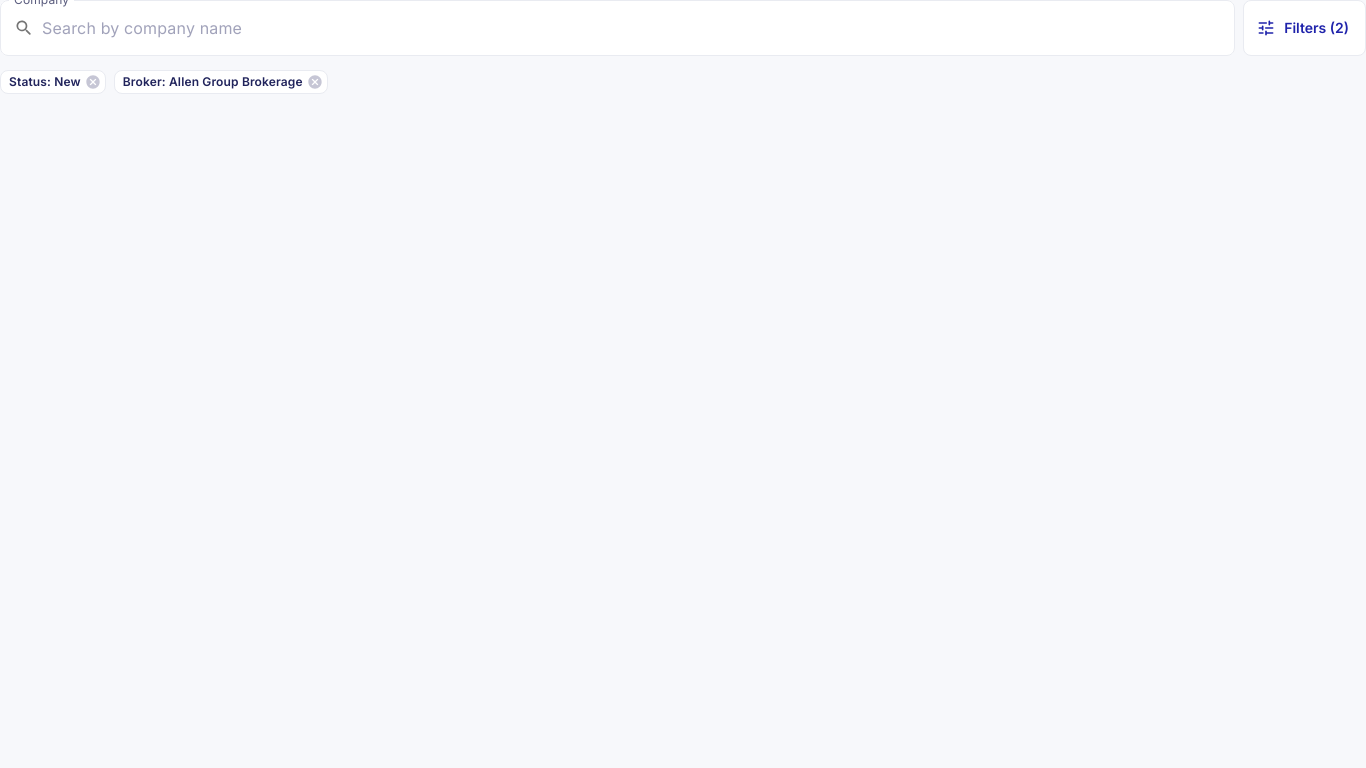
it: SubmissionFilters on phones › keeps search in view and moves the other filters into a bottom sheet
Check: the field labelled "Company" is shown, box x1=42 y1=0 x2=1235 y2=56
Step 1. Click the button "Filters (2)" → x=1305, y=28, box x1=1243 y1=0 x2=1365 y2=56
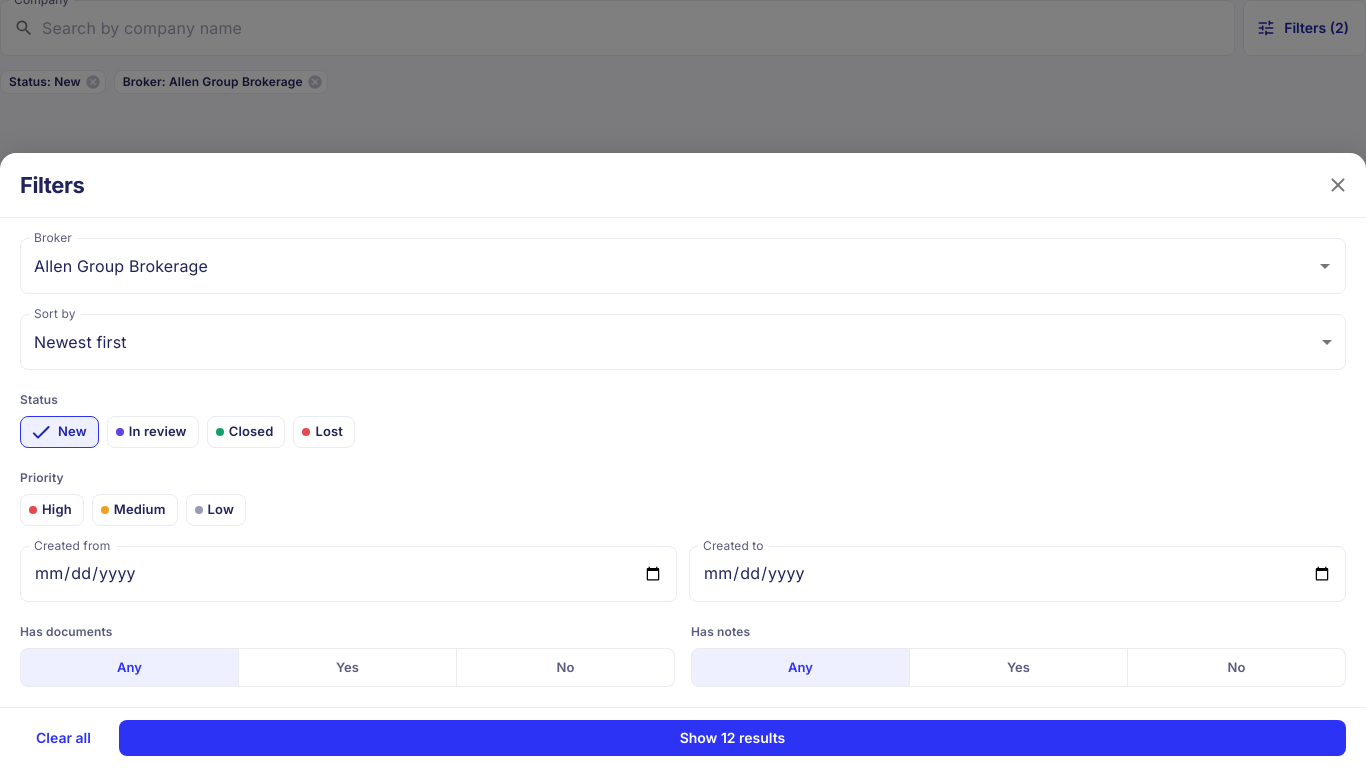
Step 2. Click the button "High" → x=52, y=510, box x1=20 y1=494 x2=84 y2=526
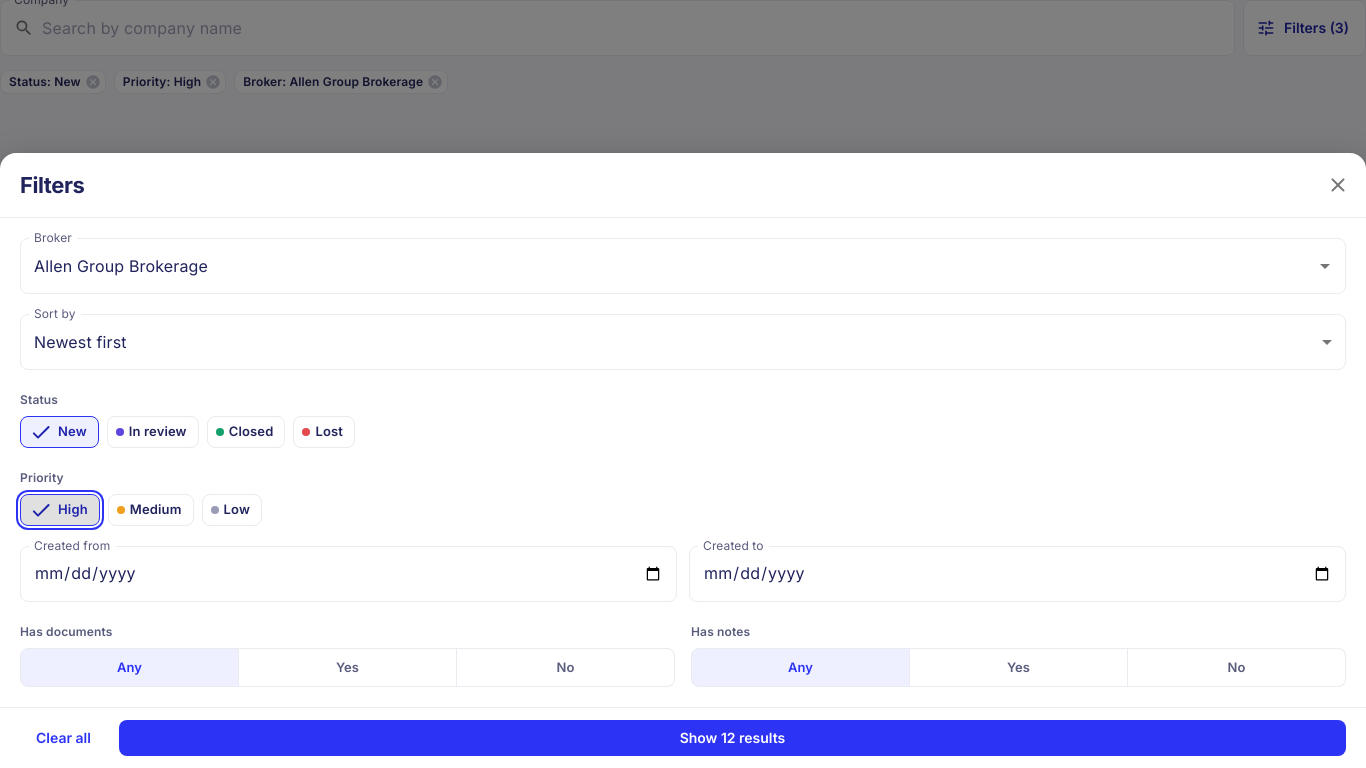
Step 3. Click the button "Show 12 results" → x=732, y=738, box x1=119 y1=720 x2=1346 y2=756
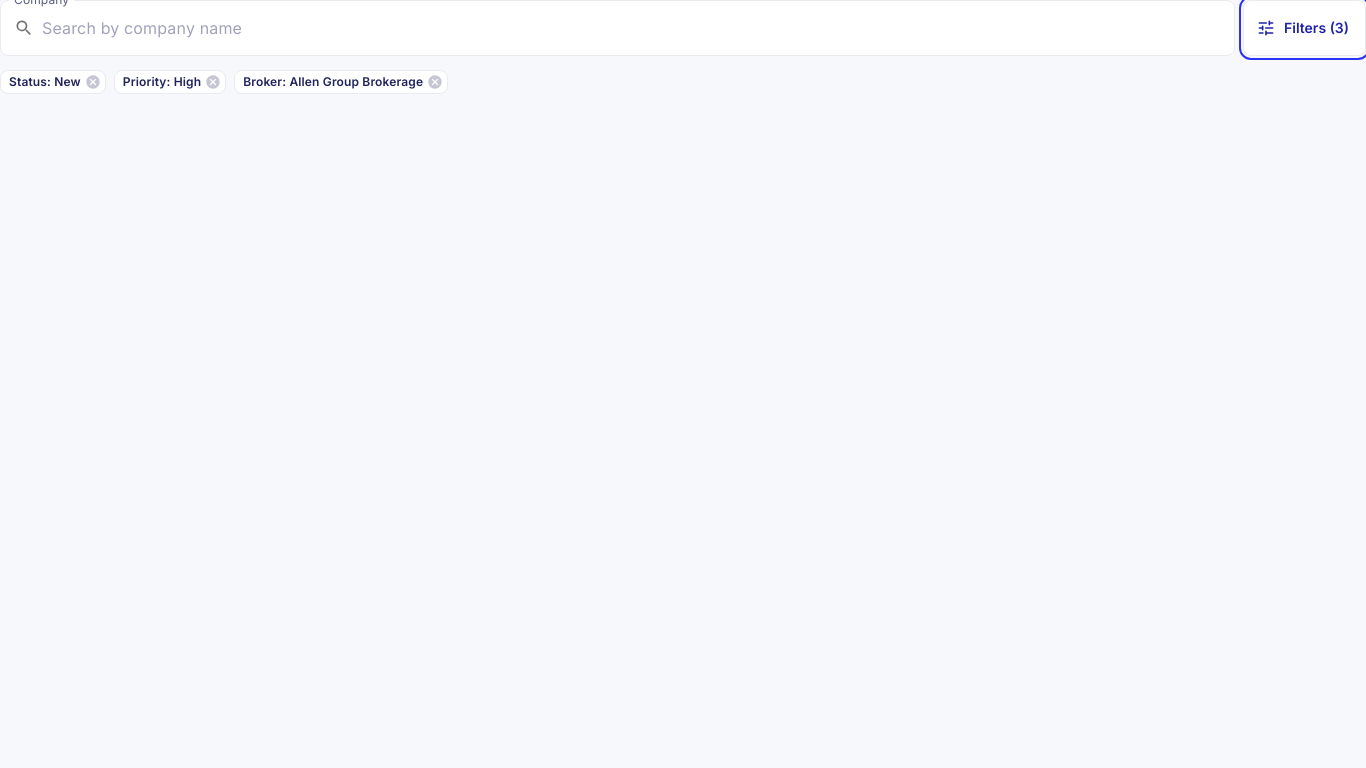
Check: the dialog is gone
